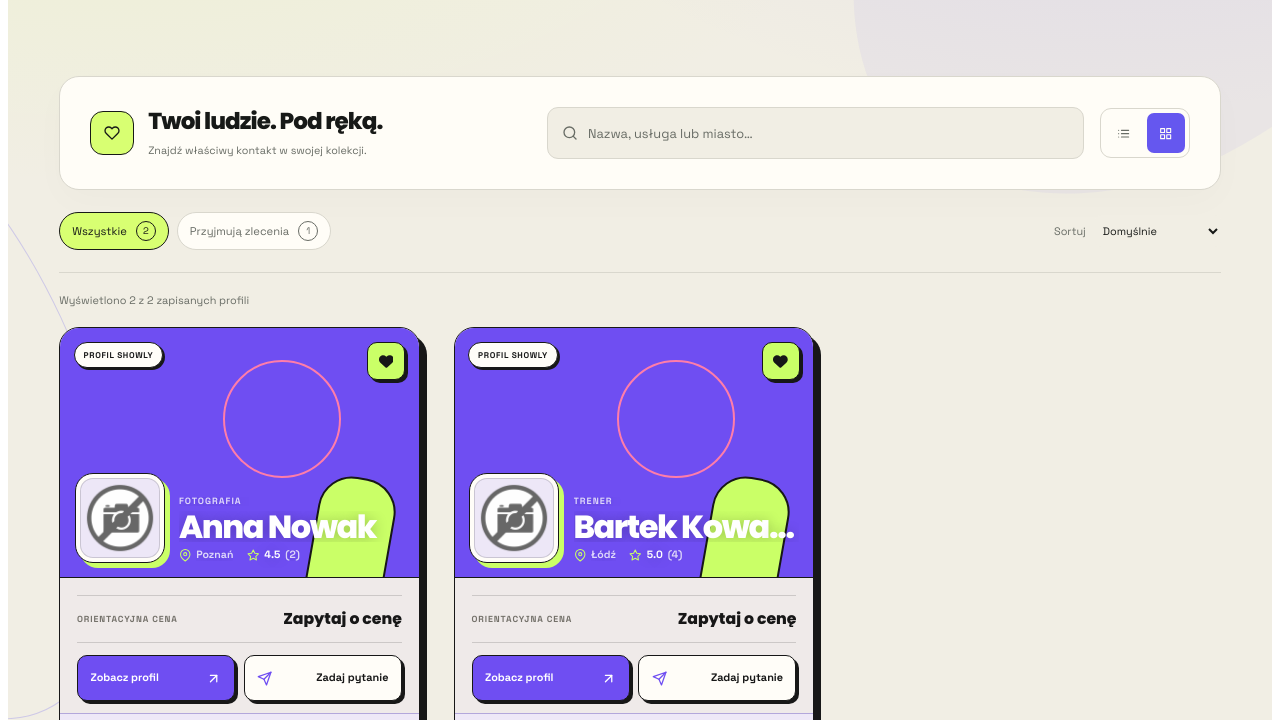
failed removal keeps the saved profile
The width and height of the screenshot is (1280, 720).
(page scrolled)
Click the 1st button named "Usuń profil z ulubionych" at [386, 361], box [367, 342, 405, 380]
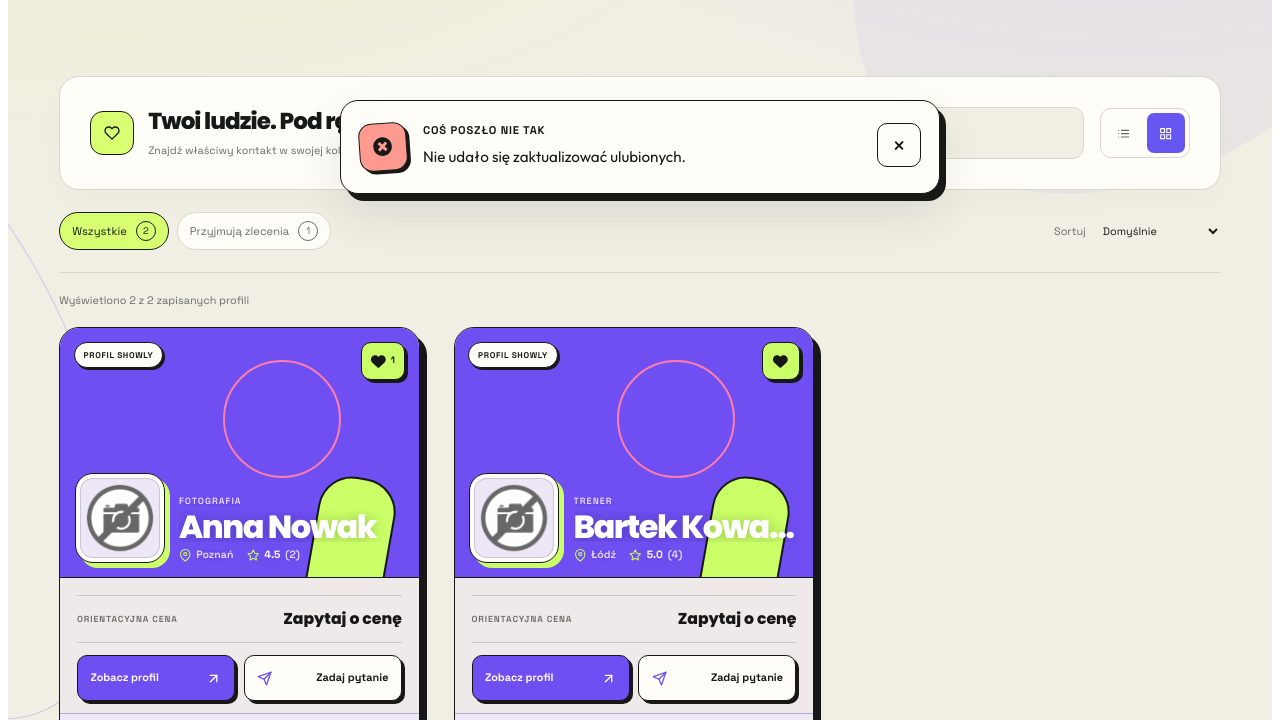
Expected: the heading "Anna Nowak" is shown, [179, 511, 404, 542]
Result: the text "Nie udało się zaktualizować ulubionych." is shown at [423, 147, 686, 166]
